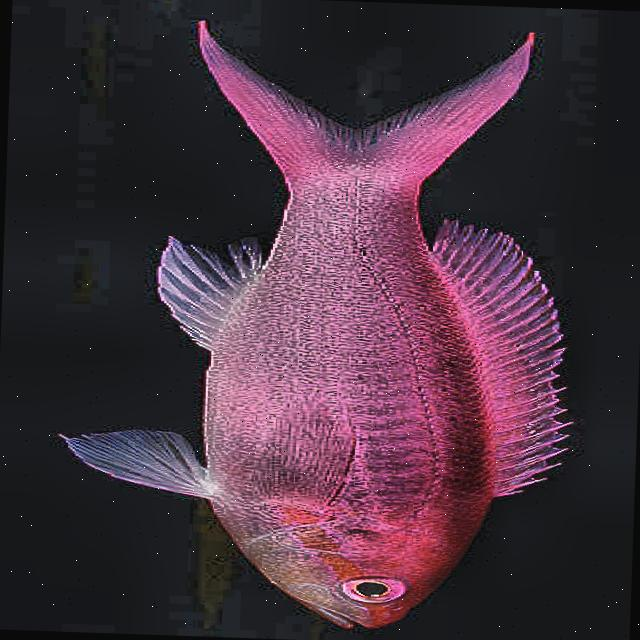fish: (48, 15, 587, 635)
